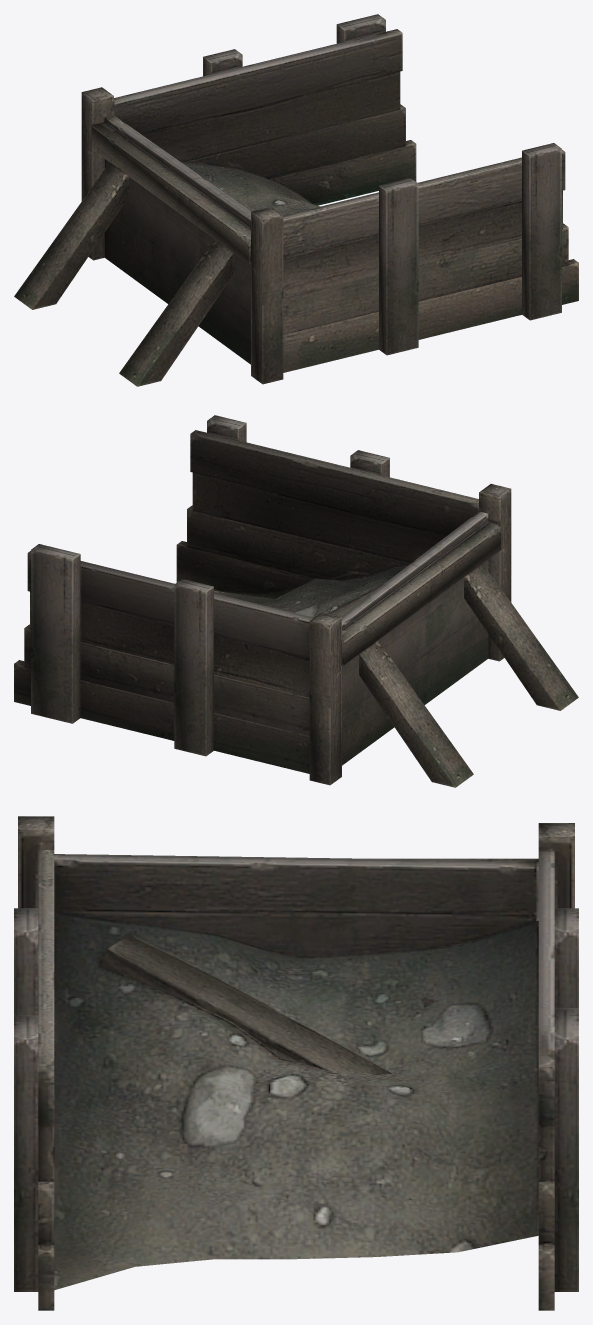
Rendered from buffer_stop002.fbx.
3 views of the same model, one above another, from view 1: azimuth 30°, elevation 25°; view 2: azimuth 150°, elevation 25°; view 3: azimuth 270°, elevation 25° (orthographic). The views are drawn at different scales.
Parts seen in each view (by area): view 1: buffer_stop002; view 2: buffer_stop002; view 3: buffer_stop002.
Boxes of the visible parts, <box> form: buffer_stop002: <box>14,14,578,386</box>; buffer_stop002: <box>14,415,578,787</box>; buffer_stop002: <box>14,816,578,1310</box>.
Bounding box in the file's own units: 184 × 69 × 140.
